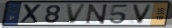5: (108, 3, 129, 25)
8: (44, 4, 62, 23)
N: (85, 3, 110, 25)
V: (65, 3, 88, 25), (131, 3, 154, 25)
X: (19, 4, 44, 24)
